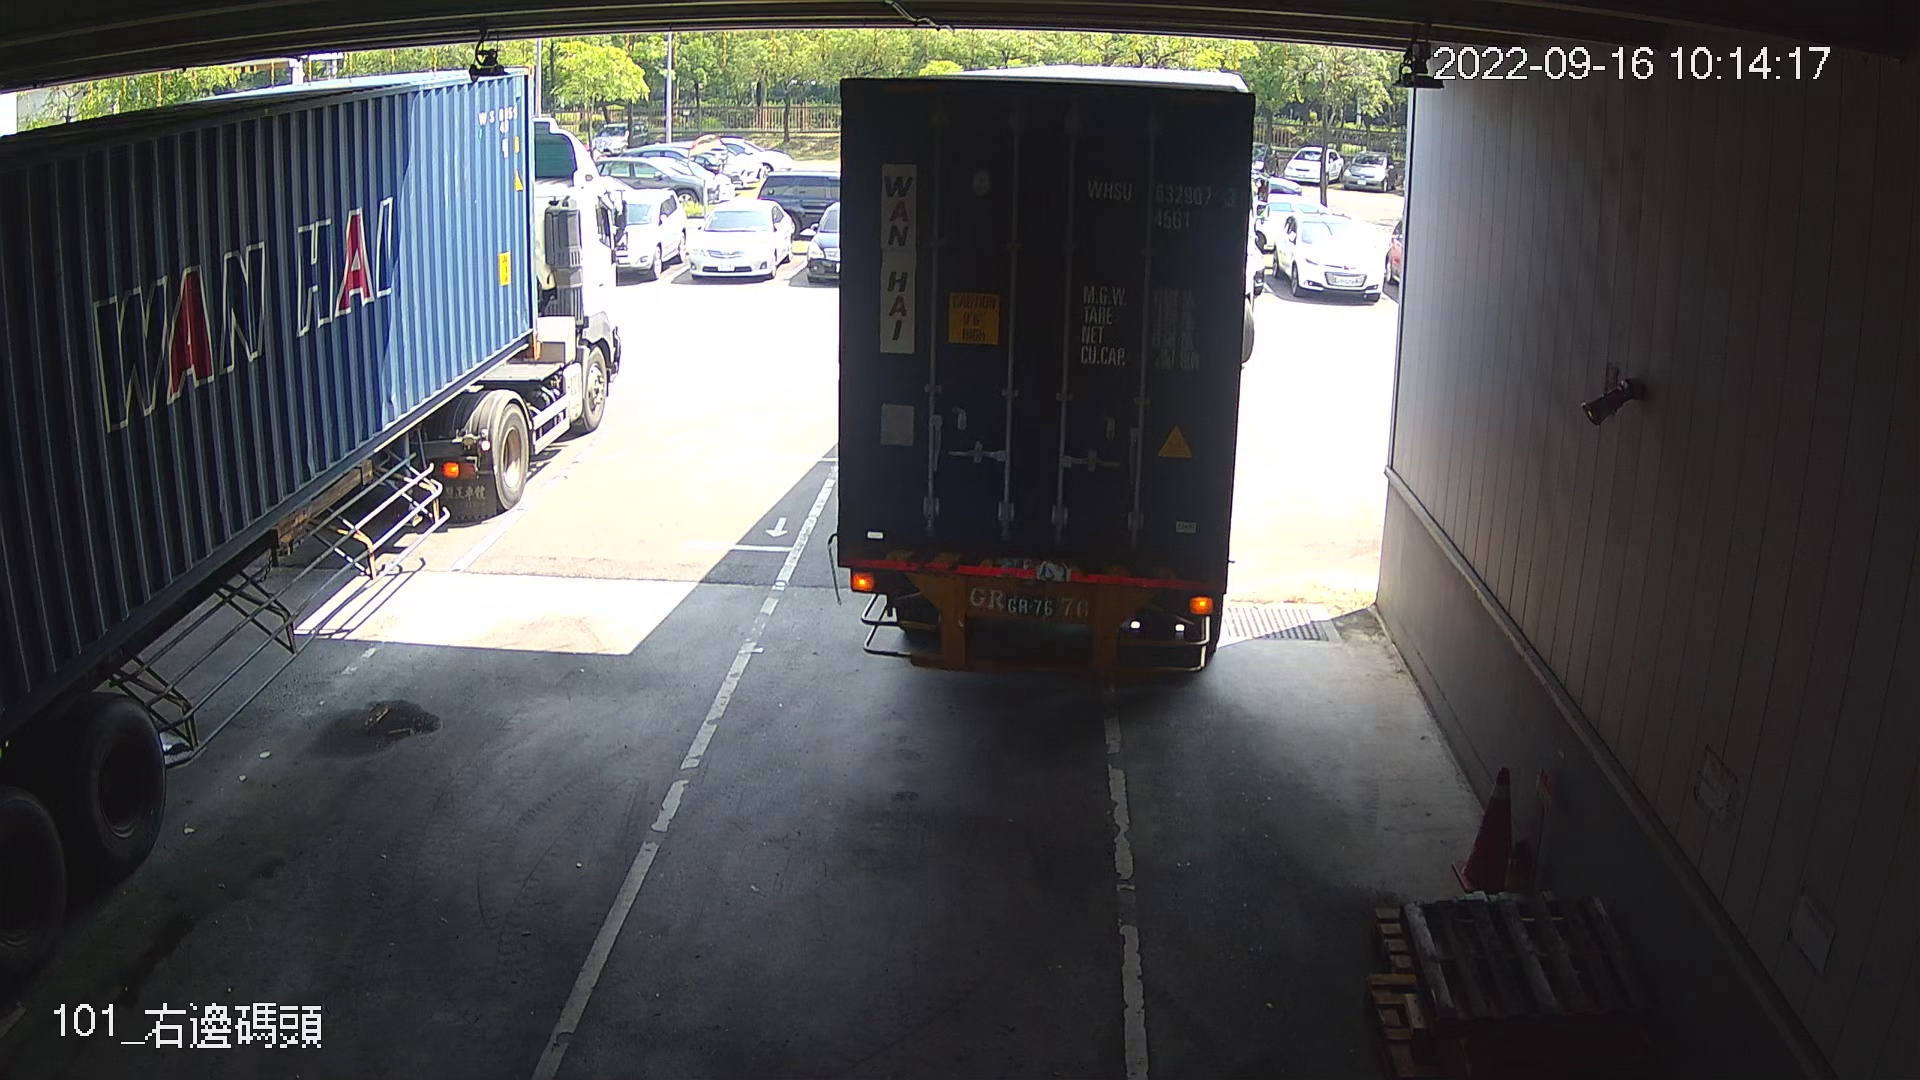container: (1084, 169, 1242, 236)
